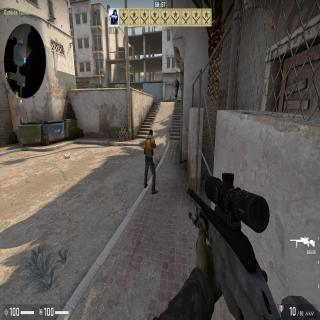T-Body: (142, 126, 158, 195)
T-Head: (148, 129, 154, 138)
